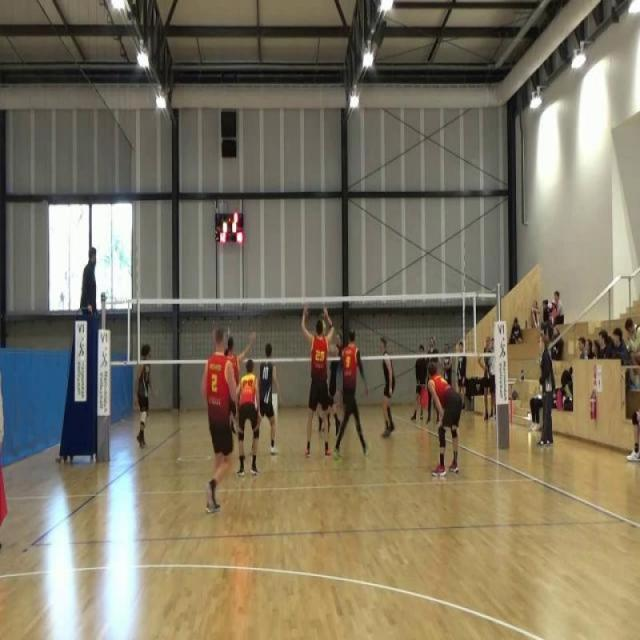volleyball: (322, 320, 327, 334)
